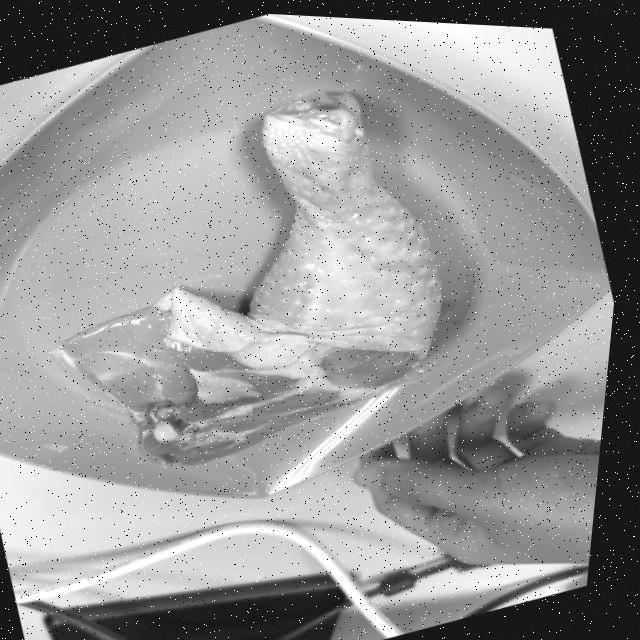quater: (111, 90, 438, 430)
